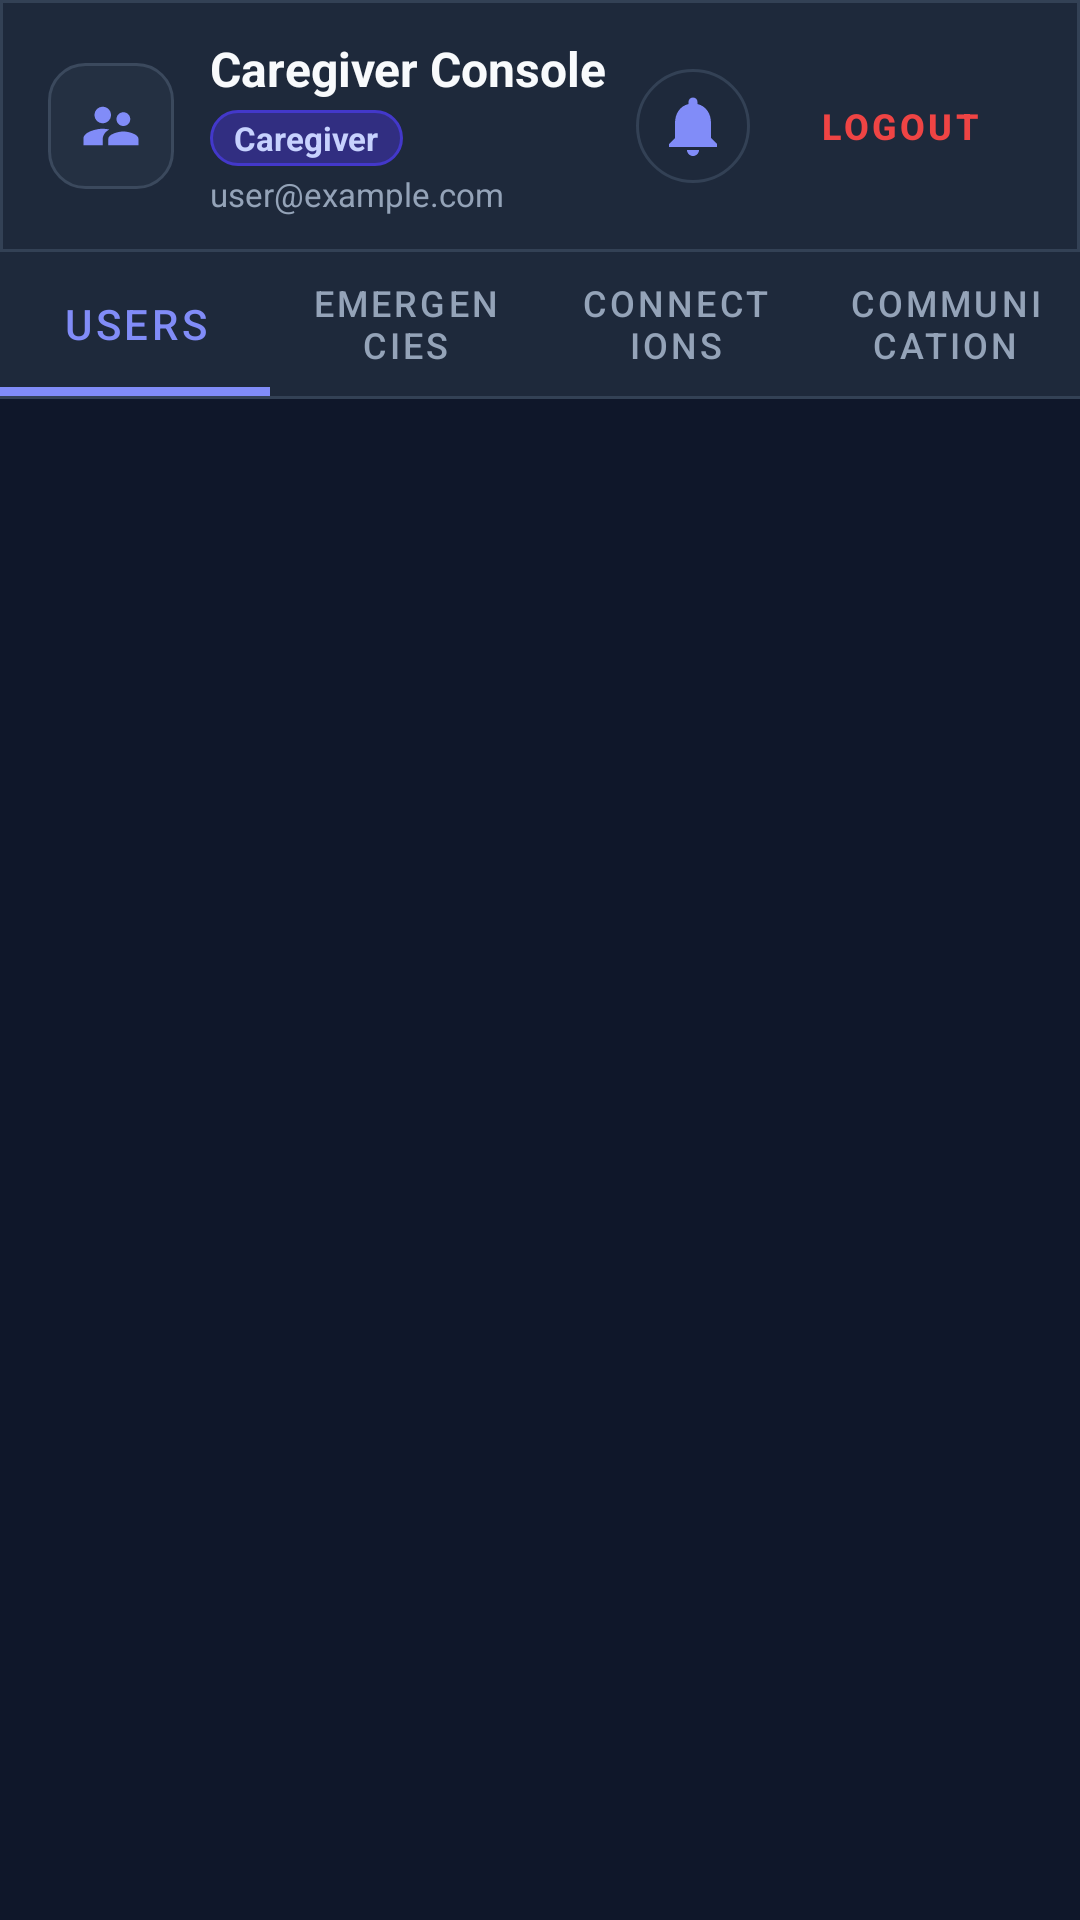

Screen size 1080*1920. Icon name, then its box in pixels as (x1, y1, x2, y2):
Notification Sound & Volume Manager: (636, 69, 750, 183)
